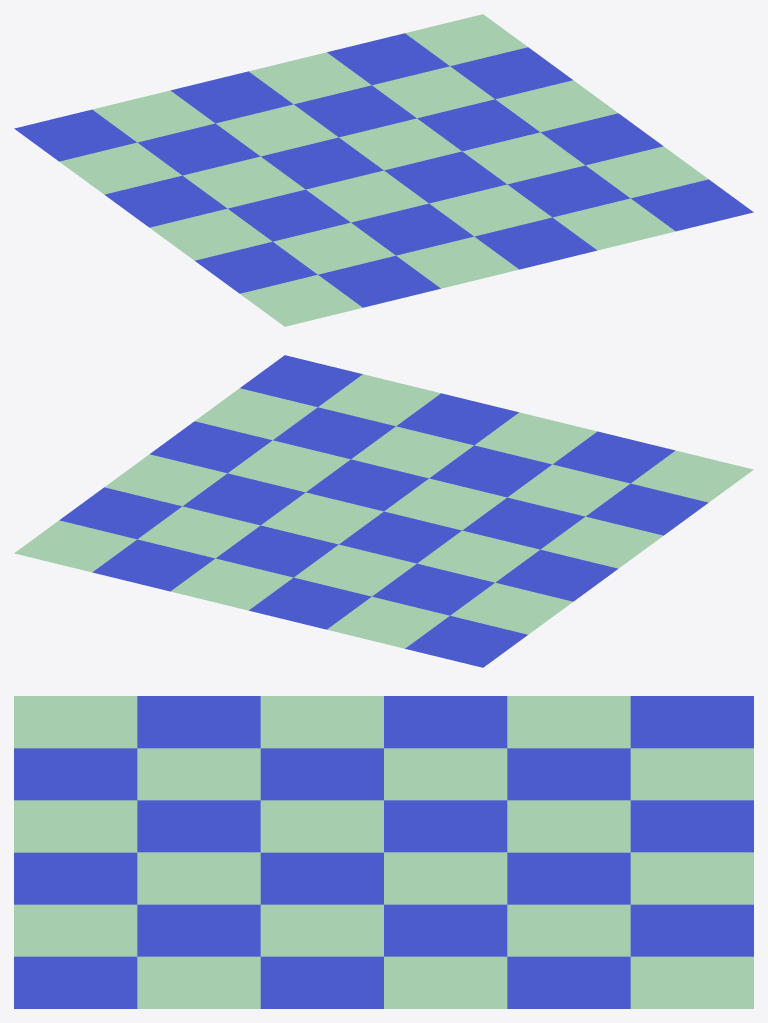
File: floor_1.fbx
The picture shows the model from 3 angles, top to bottom: view 1: azimuth 30°, elevation 25°; view 2: azimuth 150°, elevation 25°; view 3: azimuth 270°, elevation 25°; orthographic projection. The views are drawn at different scales.
Parts seen in each view (by area): view 1: Plane; view 2: Plane; view 3: Plane.
Part boxes in pixels (x1,y1,x2,y2): Plane: [14, 14, 753, 326]; Plane: [14, 355, 753, 667]; Plane: [14, 696, 753, 1008].
Size of the model in its own units: 200 by 0 by 200.
